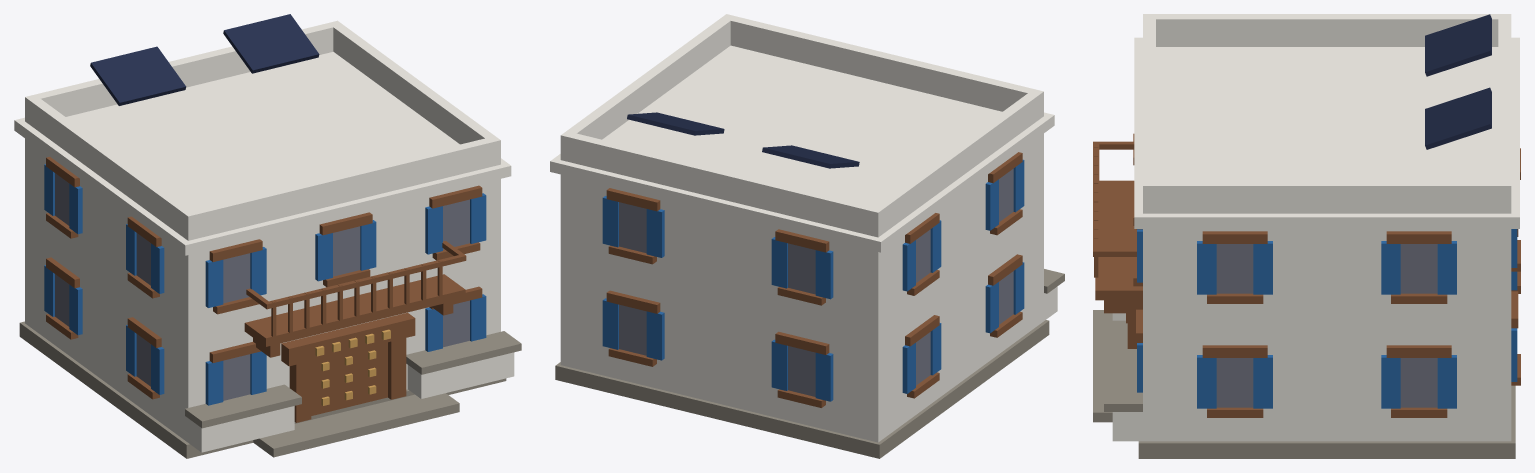
File: house-1x1-2f-swahili-a-solar.glb
The picture shows the model from 3 angles, left to right: view 1: azimuth 30°, elevation 25°; view 2: azimuth 150°, elevation 25°; view 3: azimuth 270°, elevation 25°; orthographic projection. The views are drawn at different scales.
Parts seen in each view (by area): view 1: house-1x1-2f-swahili-a-solar; view 2: house-1x1-2f-swahili-a-solar; view 3: house-1x1-2f-swahili-a-solar.
Part boxes in pixels (x1,y1,x2,y2): house-1x1-2f-swahili-a-solar: (14,14,521,458); house-1x1-2f-swahili-a-solar: (550,14,1064,458); house-1x1-2f-swahili-a-solar: (1093,14,1520,458).
Bounding box in the file's own units: 0.984 × 0.7686 × 0.987.
Materials: 1 (1 with a texture image).
